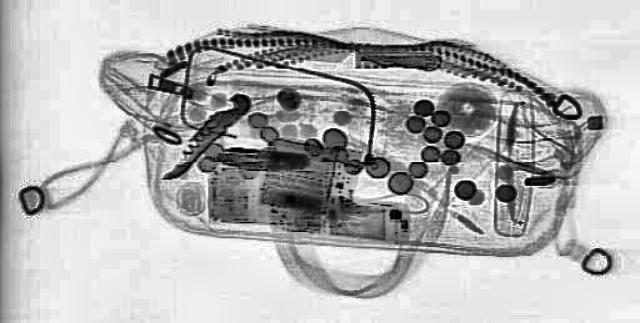Knife: (150, 91, 258, 181)
